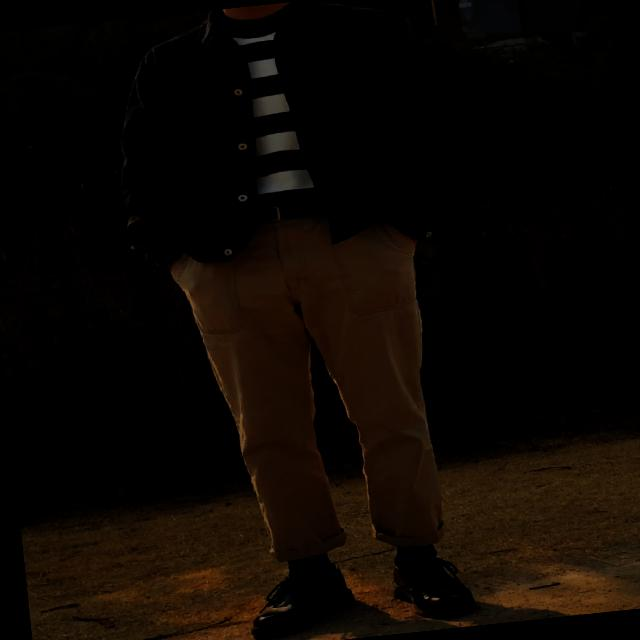cottonpants: (164, 190, 454, 573)
jacket: (102, 0, 464, 271)
